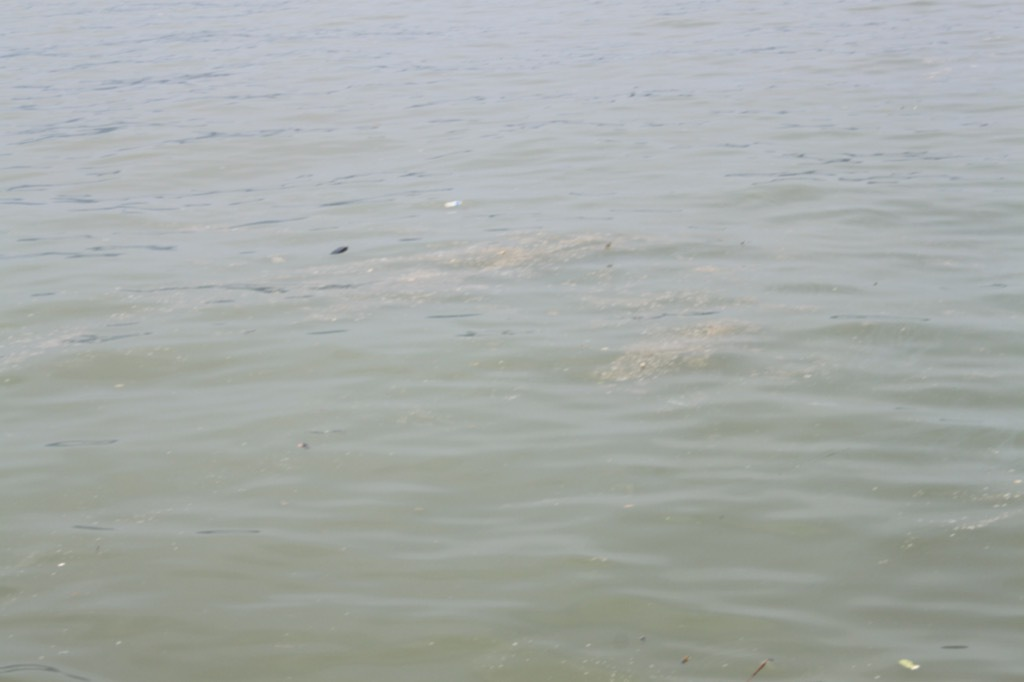organic: (727, 650, 789, 682), (667, 646, 707, 672), (289, 431, 321, 457), (628, 625, 655, 652)
plastic: (890, 647, 930, 681), (319, 231, 358, 265), (437, 193, 470, 217)
